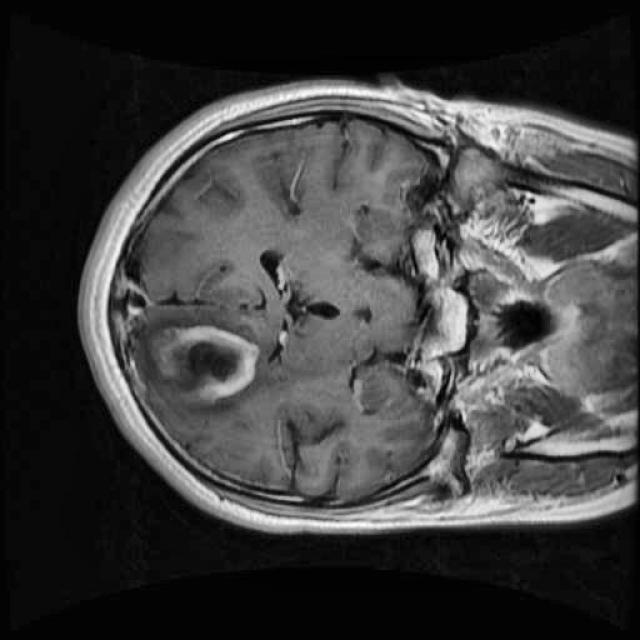Tumor: (143, 296, 278, 430)
